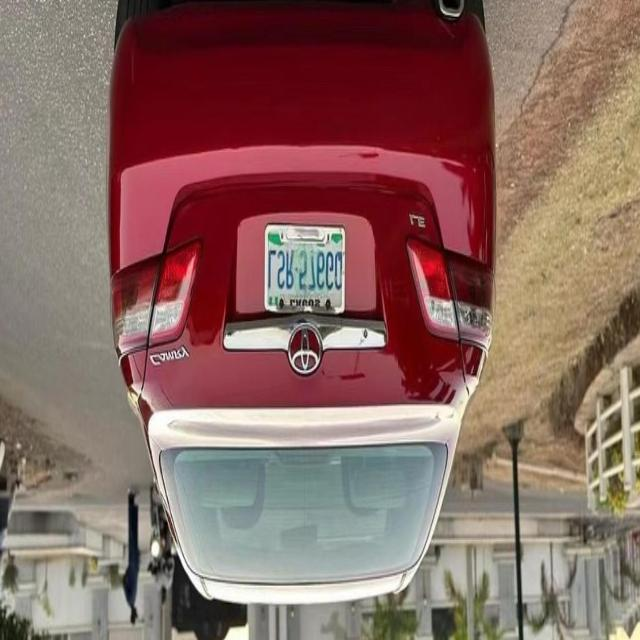Nigerian License Plate - vdataset benjamin-daria: (262, 222, 347, 319)
